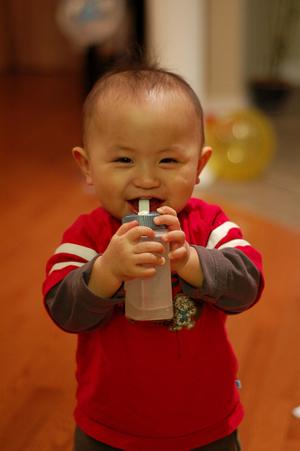person: (41, 57, 264, 446)
